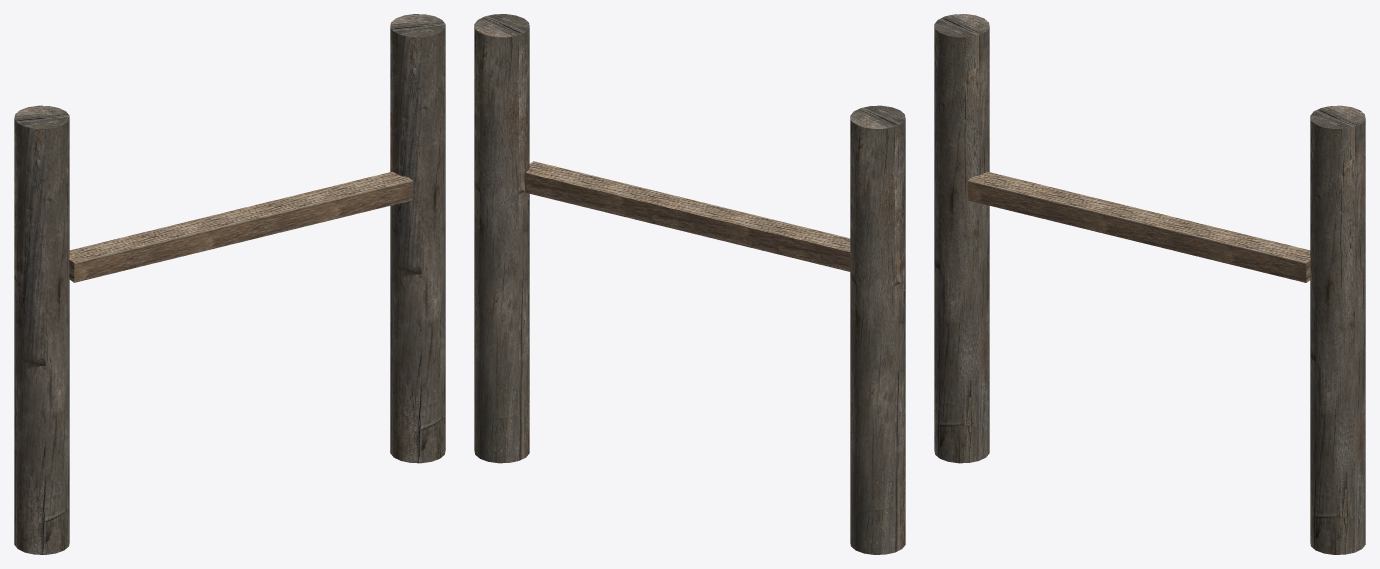
The model's file is biga.fbx.
3 renders of one model, left to right at view 1: azimuth 30°, elevation 25°; view 2: azimuth 150°, elevation 25°; view 3: azimuth 330°, elevation 25°, orthographic.
Parts seen in each view (by area): view 1: Columna 1; view 2: Columna 1; view 3: Columna 1.
Part boxes in pixels (box(x1,y1,x2,y2)): Columna 1: box(14, 14, 445, 554); Columna 1: box(474, 14, 905, 554); Columna 1: box(934, 14, 1365, 554).
Size of the model in its own units: 517 by 496 by 58.95.
2 materials, 2 textured.
